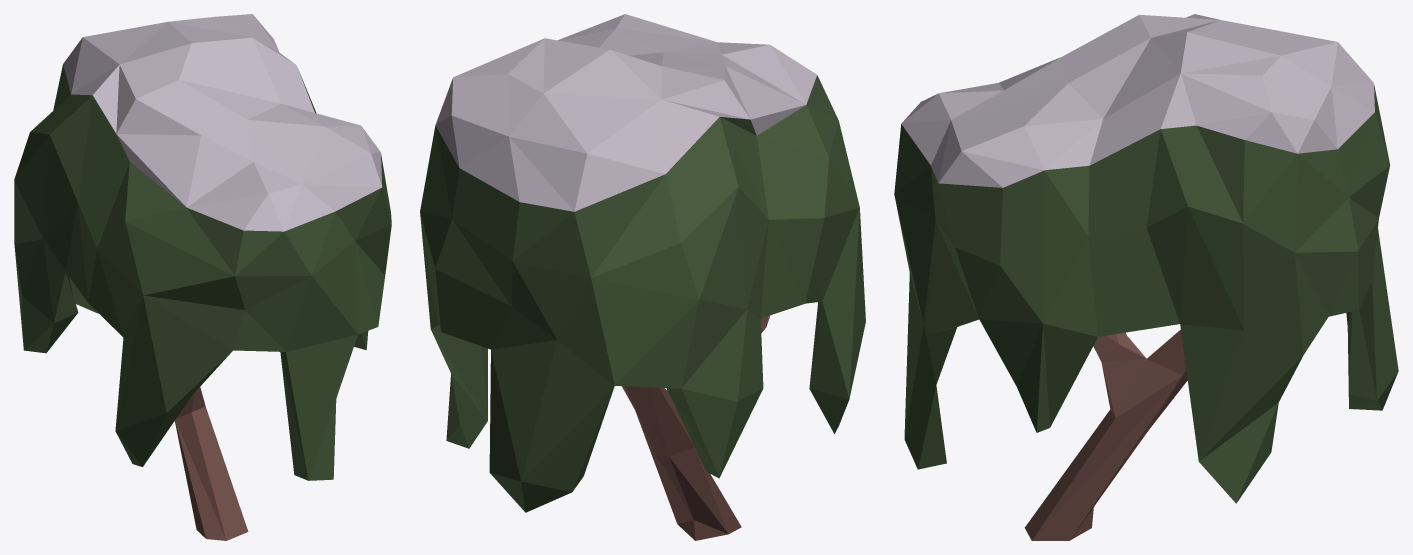
Rendered from Willow_Snow_4.lod2.glb.
The picture shows the model from 3 angles, left to right: view 1: azimuth 30°, elevation 25°; view 2: azimuth 150°, elevation 25°; view 3: azimuth 270°, elevation 25°; orthographic projection. The views are drawn at different scales.
Parts seen in each view (by area): view 1: Willow_Snow_4; view 2: Willow_Snow_4; view 3: Willow_Snow_4.
Boxes of the visible parts, x1,y1,x2,y2 form: Willow_Snow_4: [14, 14, 391, 540]; Willow_Snow_4: [420, 14, 865, 540]; Willow_Snow_4: [894, 14, 1398, 540].
Bounding box in the file's own units: 2.16 × 3.47 × 3.08.
